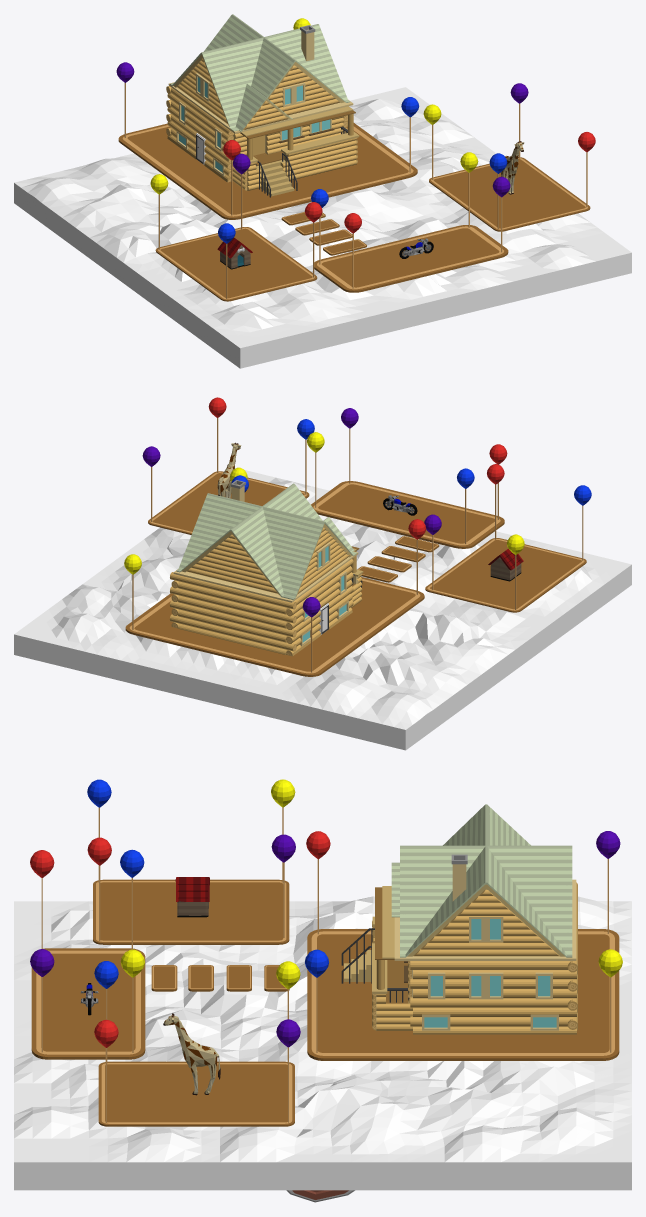
3 renders of one model, top to bottom at view 1: azimuth 30°, elevation 25°; view 2: azimuth 150°, elevation 25°; view 3: azimuth 270°, elevation 25°, orthographic. The views are drawn at different scales.
Parts seen in each view (by area): view 1: Cube.013, Cube.1516, OBJRANDOM_DOGHOUSE, ANIMAL_JIRAFA; view 2: Cube.013, Cube.1516, OBJRANDOM_DOGHOUSE, ANIMAL_JIRAFA; view 3: Cube.013, Cube.1516, ANIMAL_JIRAFA, OBJRANDOM_DOGHOUSE.
Boxes of the visible parts, x1,y1,x2,y2 form: Cube.013: [14, 18, 631, 368]; Cube.1516: [166, 14, 359, 197]; OBJRANDOM_DOGHOUSE: [217, 237, 252, 269]; ANIMAL_JIRAFA: [501, 141, 524, 194]; Cube.013: [14, 397, 631, 750]; Cube.1516: [169, 480, 363, 656]; OBJRANDOM_DOGHOUSE: [488, 548, 523, 581]; ANIMAL_JIRAFA: [217, 442, 241, 498]; Cube.013: [14, 779, 631, 1190]; Cube.1516: [341, 804, 577, 1034]; ANIMAL_JIRAFA: [163, 1013, 220, 1095]; OBJRANDOM_DOGHOUSE: [175, 877, 209, 917].
Bounding box in the file's own units: 4000 × 2404 × 4000.
Materials: 45 (2 with a texture image).
